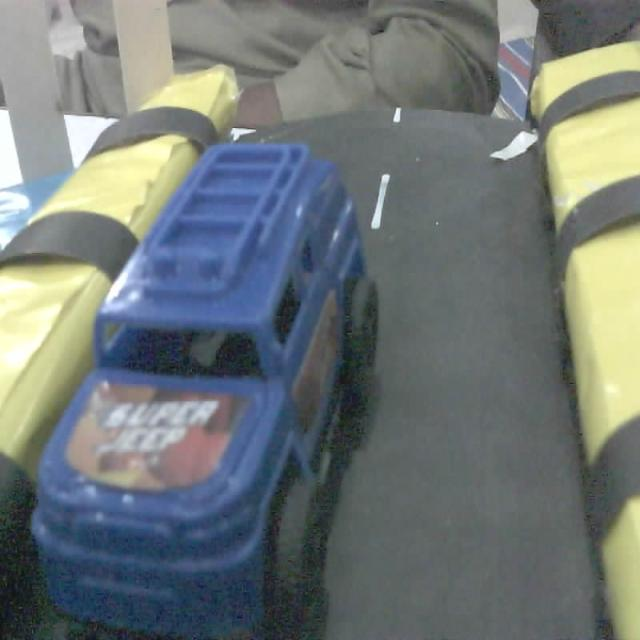OneCar: (22, 131, 420, 632)
